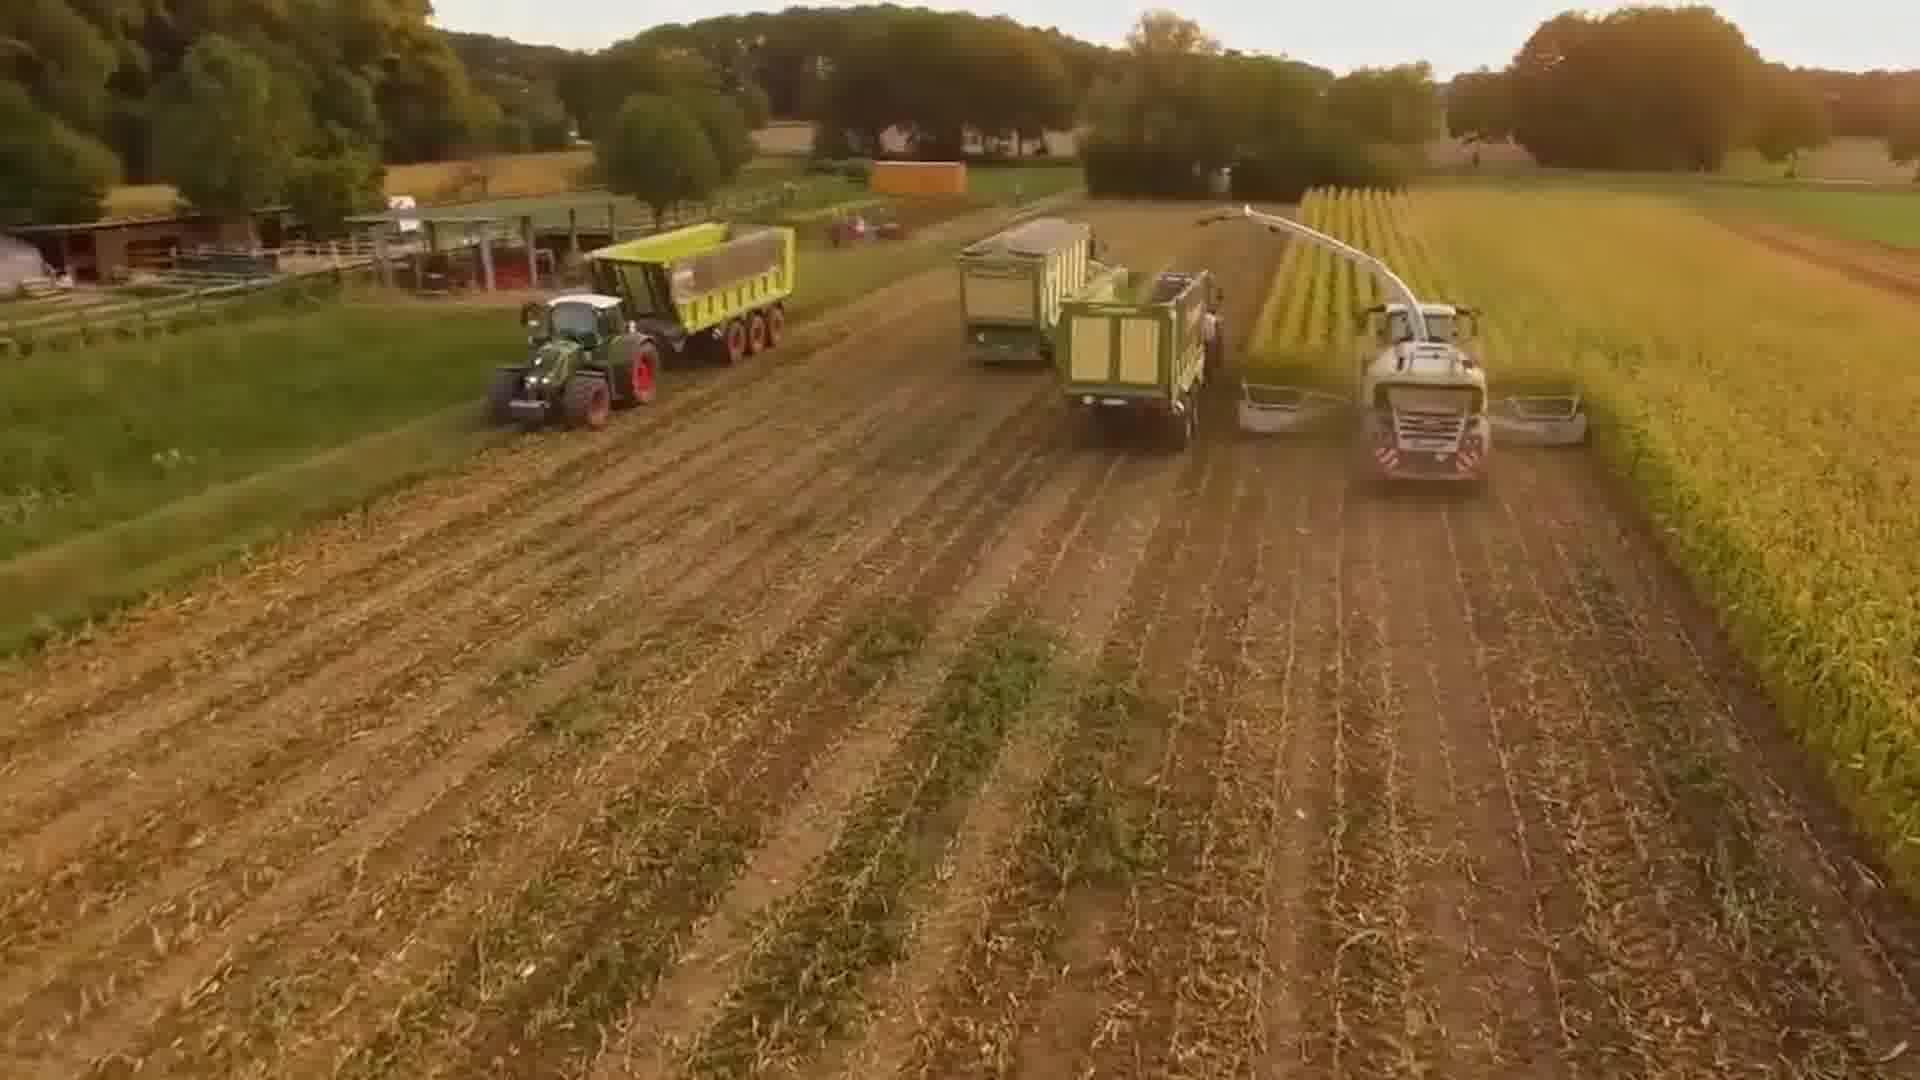combine harvester: (1193, 204, 1597, 495)
tractor: (485, 287, 665, 433)
trailer: (1050, 258, 1221, 451), (582, 210, 791, 364), (949, 208, 1096, 367)
